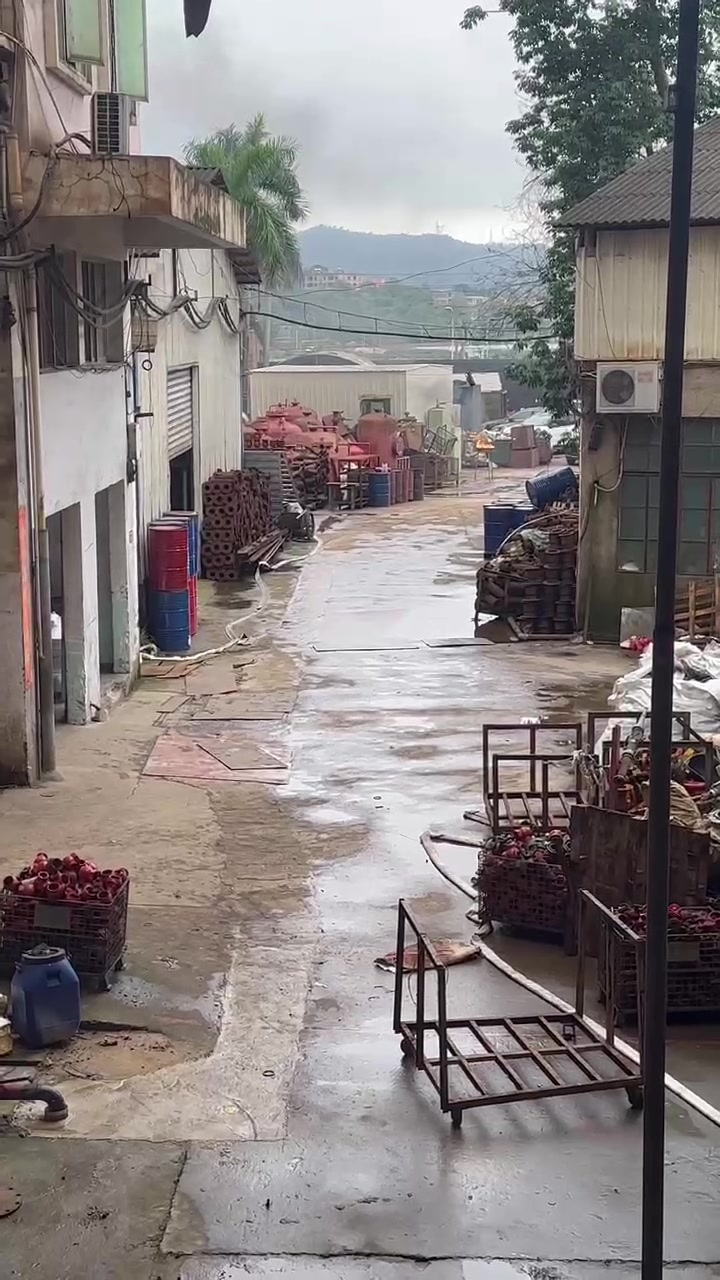fire: (475, 439, 494, 447)
